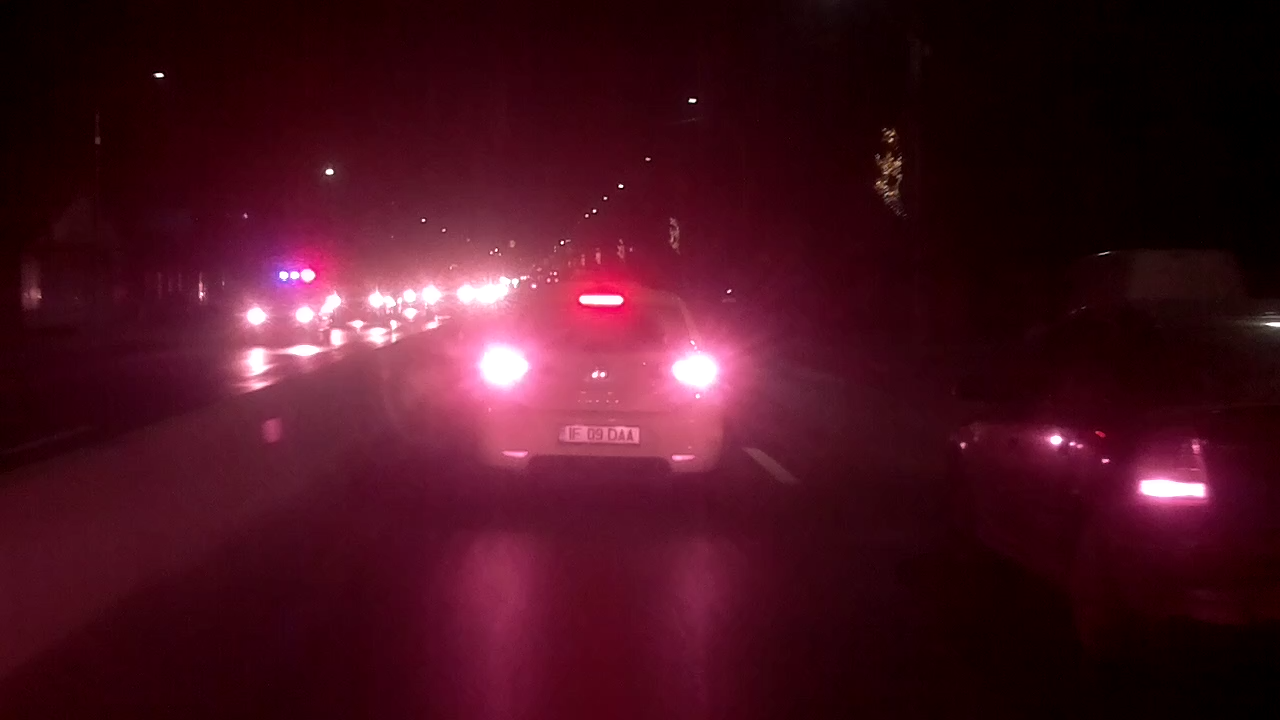license-plate: (555, 420, 646, 447)
